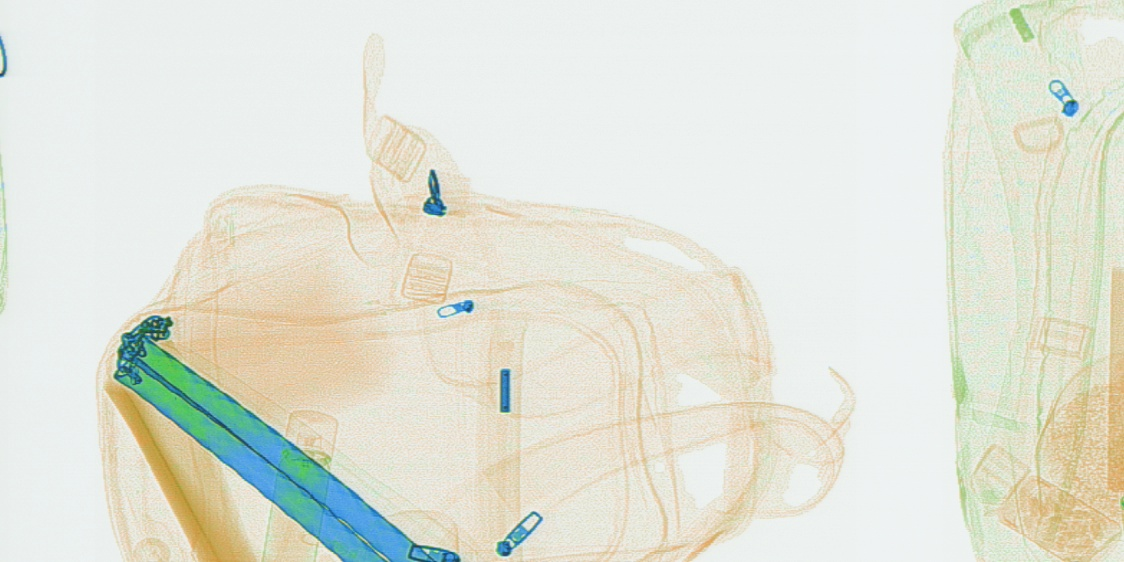pressure: (260, 409, 339, 559)
